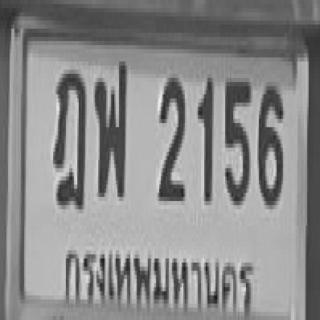A14: (52, 66, 87, 214)
A31: (93, 56, 127, 200)
N01: (196, 74, 215, 206)
N02: (157, 74, 187, 204)
N05: (223, 78, 251, 205)
N06: (257, 82, 285, 211)
P04: (58, 238, 260, 320)
